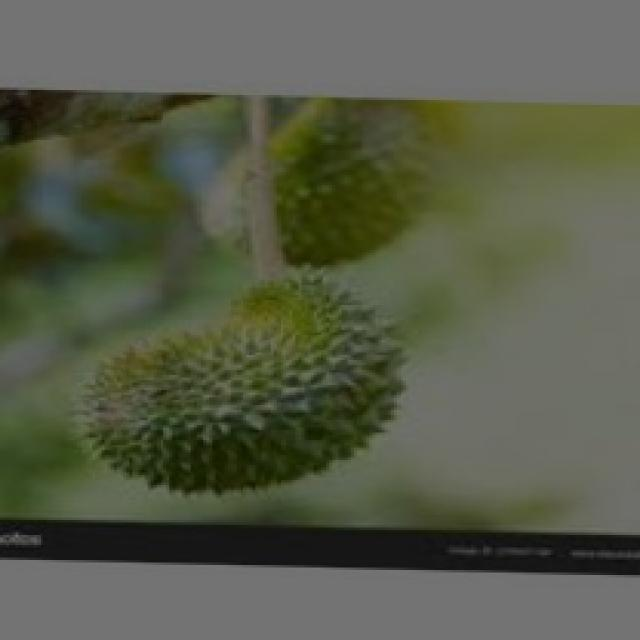fruit: (40, 227, 452, 555)
